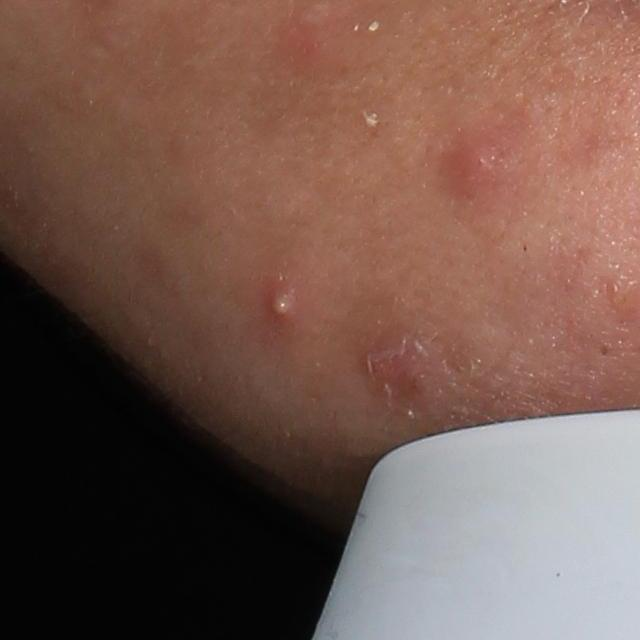comedo: (596, 344, 612, 361)
papule: (381, 342, 432, 407), (450, 135, 499, 195)
